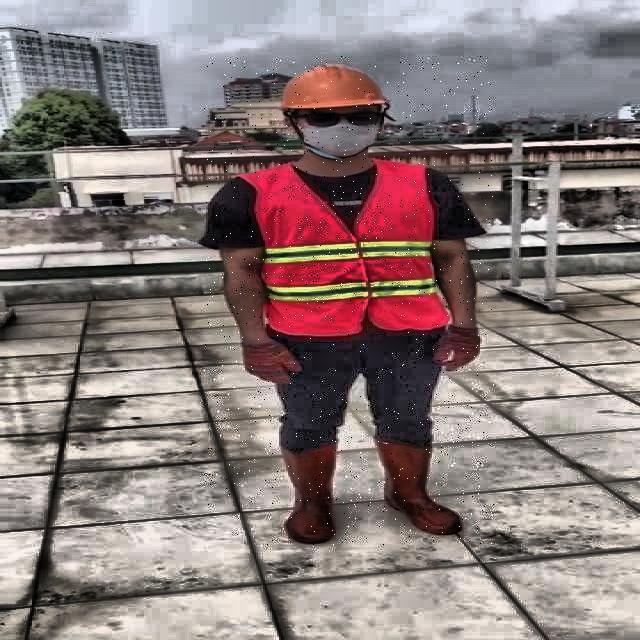safety_helmet: (277, 64, 388, 112)
safety_jacket: (249, 161, 448, 334)
